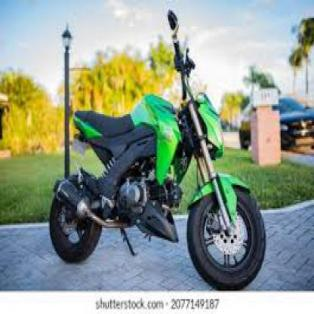Motocicleta: (46, 7, 268, 291)
